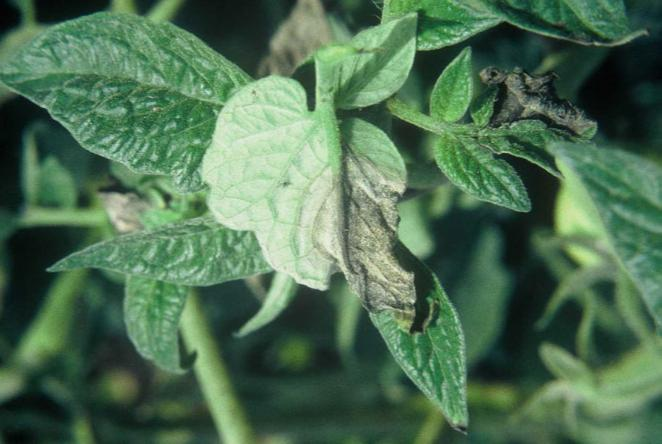Tomato leaf late blight: (192, 47, 493, 428)
